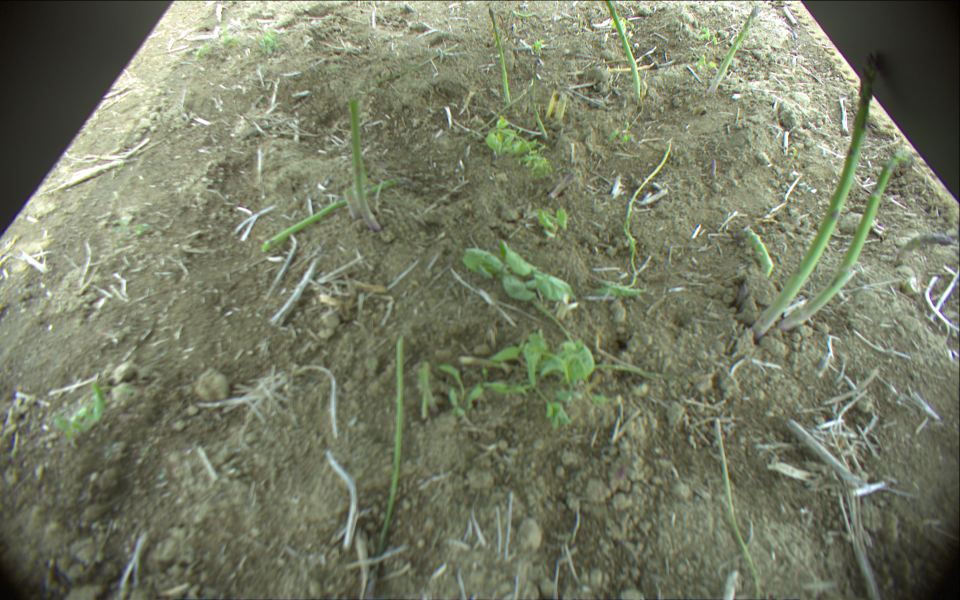aspa: (748, 53, 881, 343), (777, 150, 905, 332), (257, 174, 411, 255), (363, 333, 408, 600), (712, 418, 763, 600), (703, 4, 756, 97), (348, 96, 381, 232), (605, 2, 643, 101), (487, 6, 513, 104), (746, 226, 773, 276)
